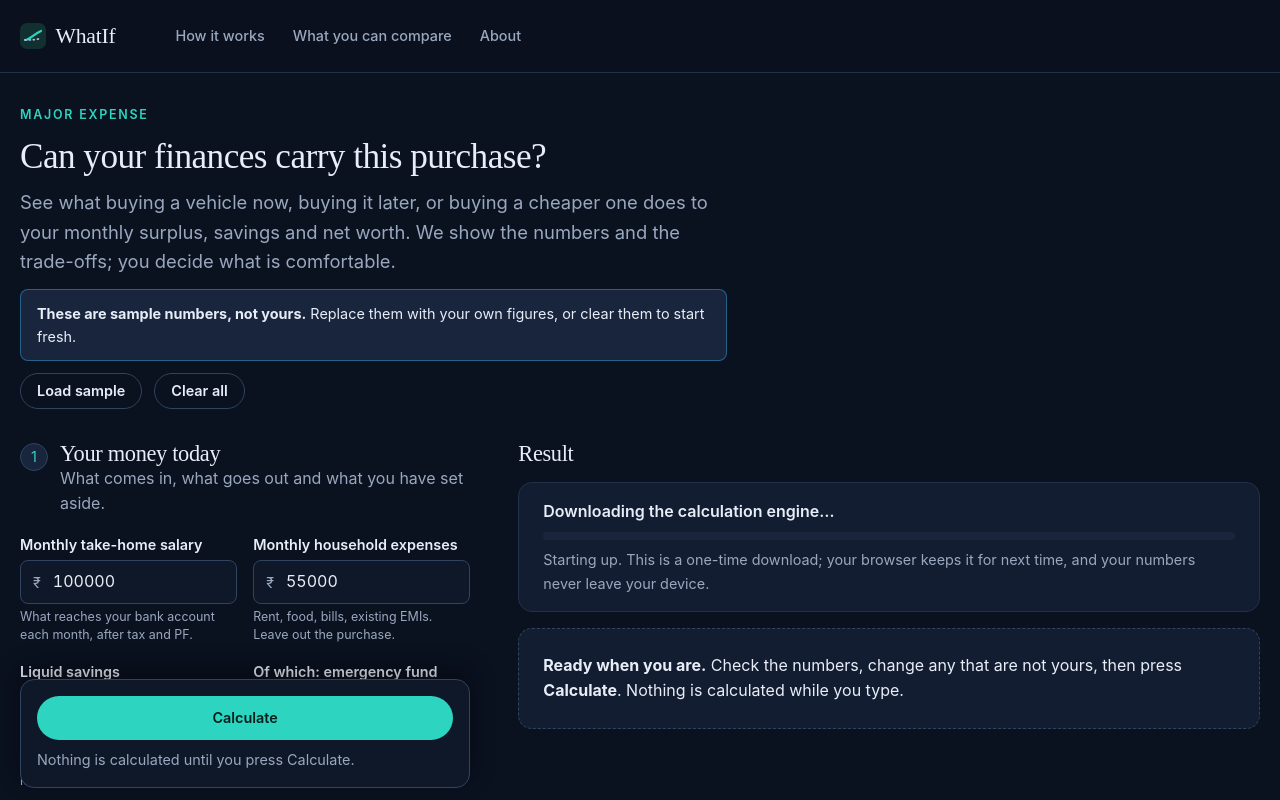
Scenario: major expense page › surfaces warnings as prompts, never as a verdict
Click the button "Calculate": (245, 718) [37, 696, 453, 740]
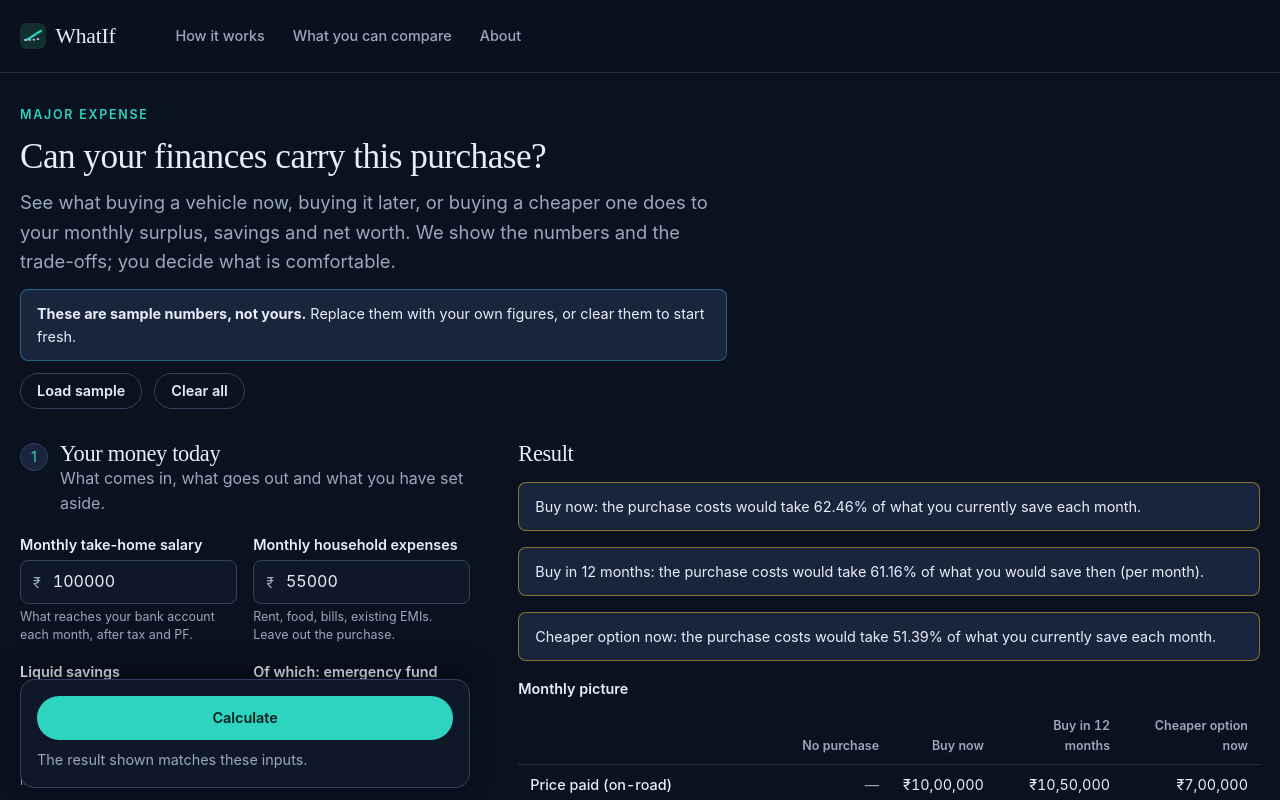
Expected: the text "Buy in 12 months: the purchase costs would take 61.16% of what you would save then" is shown, [535, 563, 1204, 580]
Expected: the text "Buy now: the purchase costs would take 62.46% of what you currently save" is shown, [535, 498, 1141, 515]
